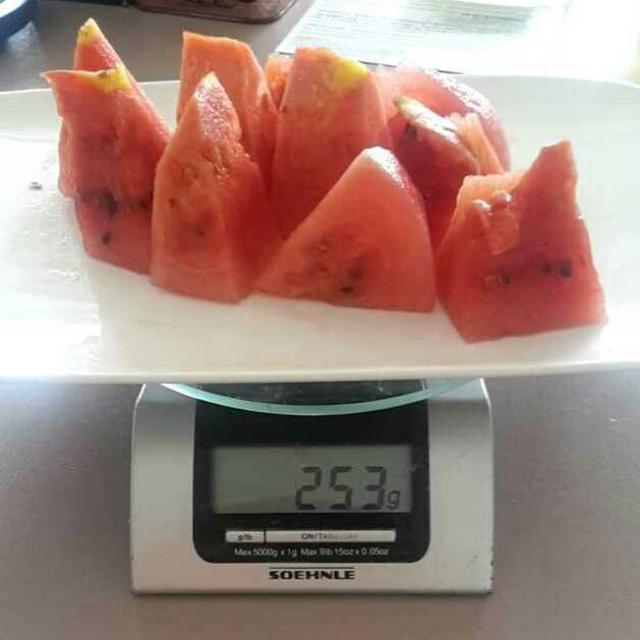watermelon-fresh: (51, 28, 599, 329)
